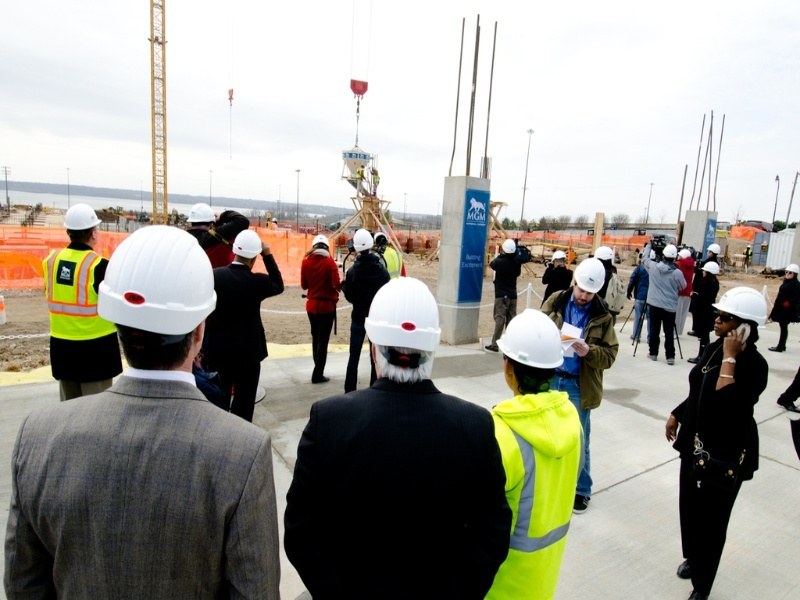baret: (97, 225, 217, 334), (366, 275, 442, 356), (495, 307, 564, 368), (709, 286, 769, 332), (570, 258, 609, 290), (64, 203, 102, 232), (233, 227, 263, 258), (352, 229, 374, 255)
